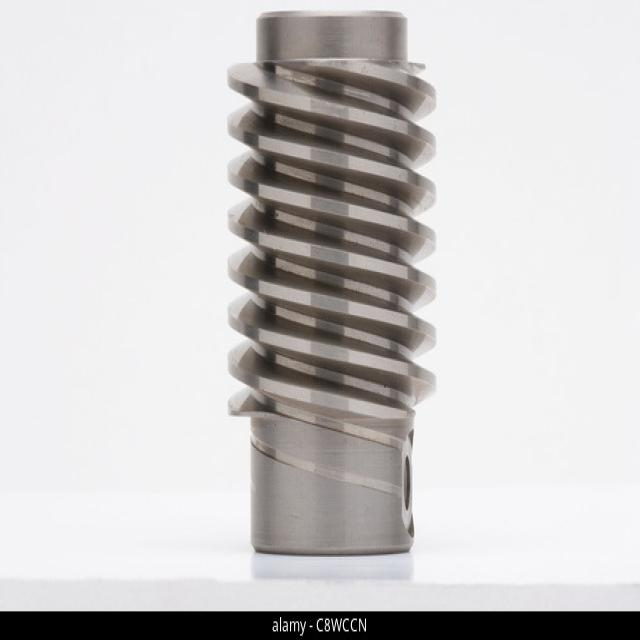Gear: (222, 6, 442, 558)
